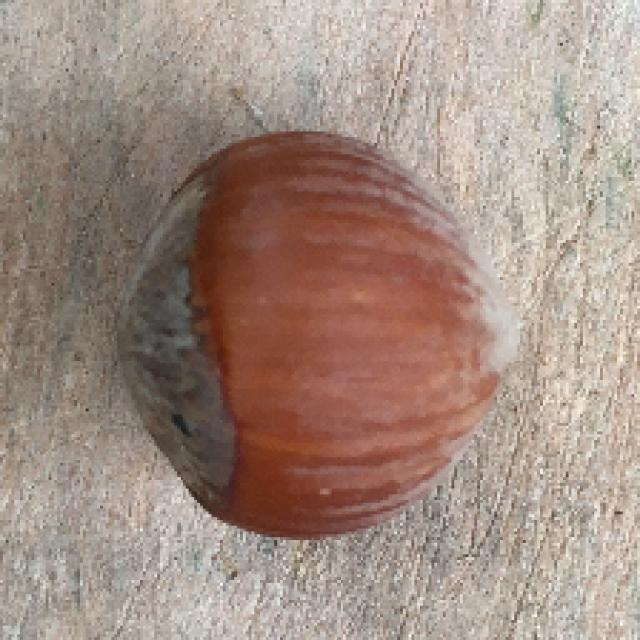QualityHazelnut: (114, 130, 521, 545)
